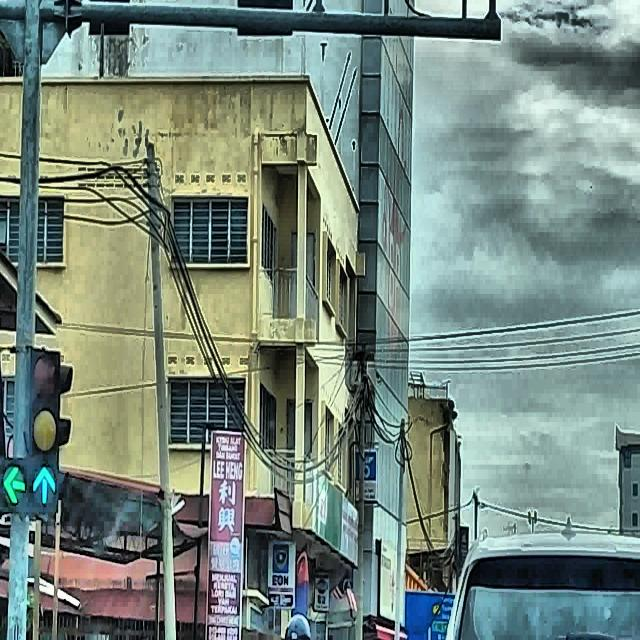green: (29, 351, 60, 515), (0, 350, 29, 513)
